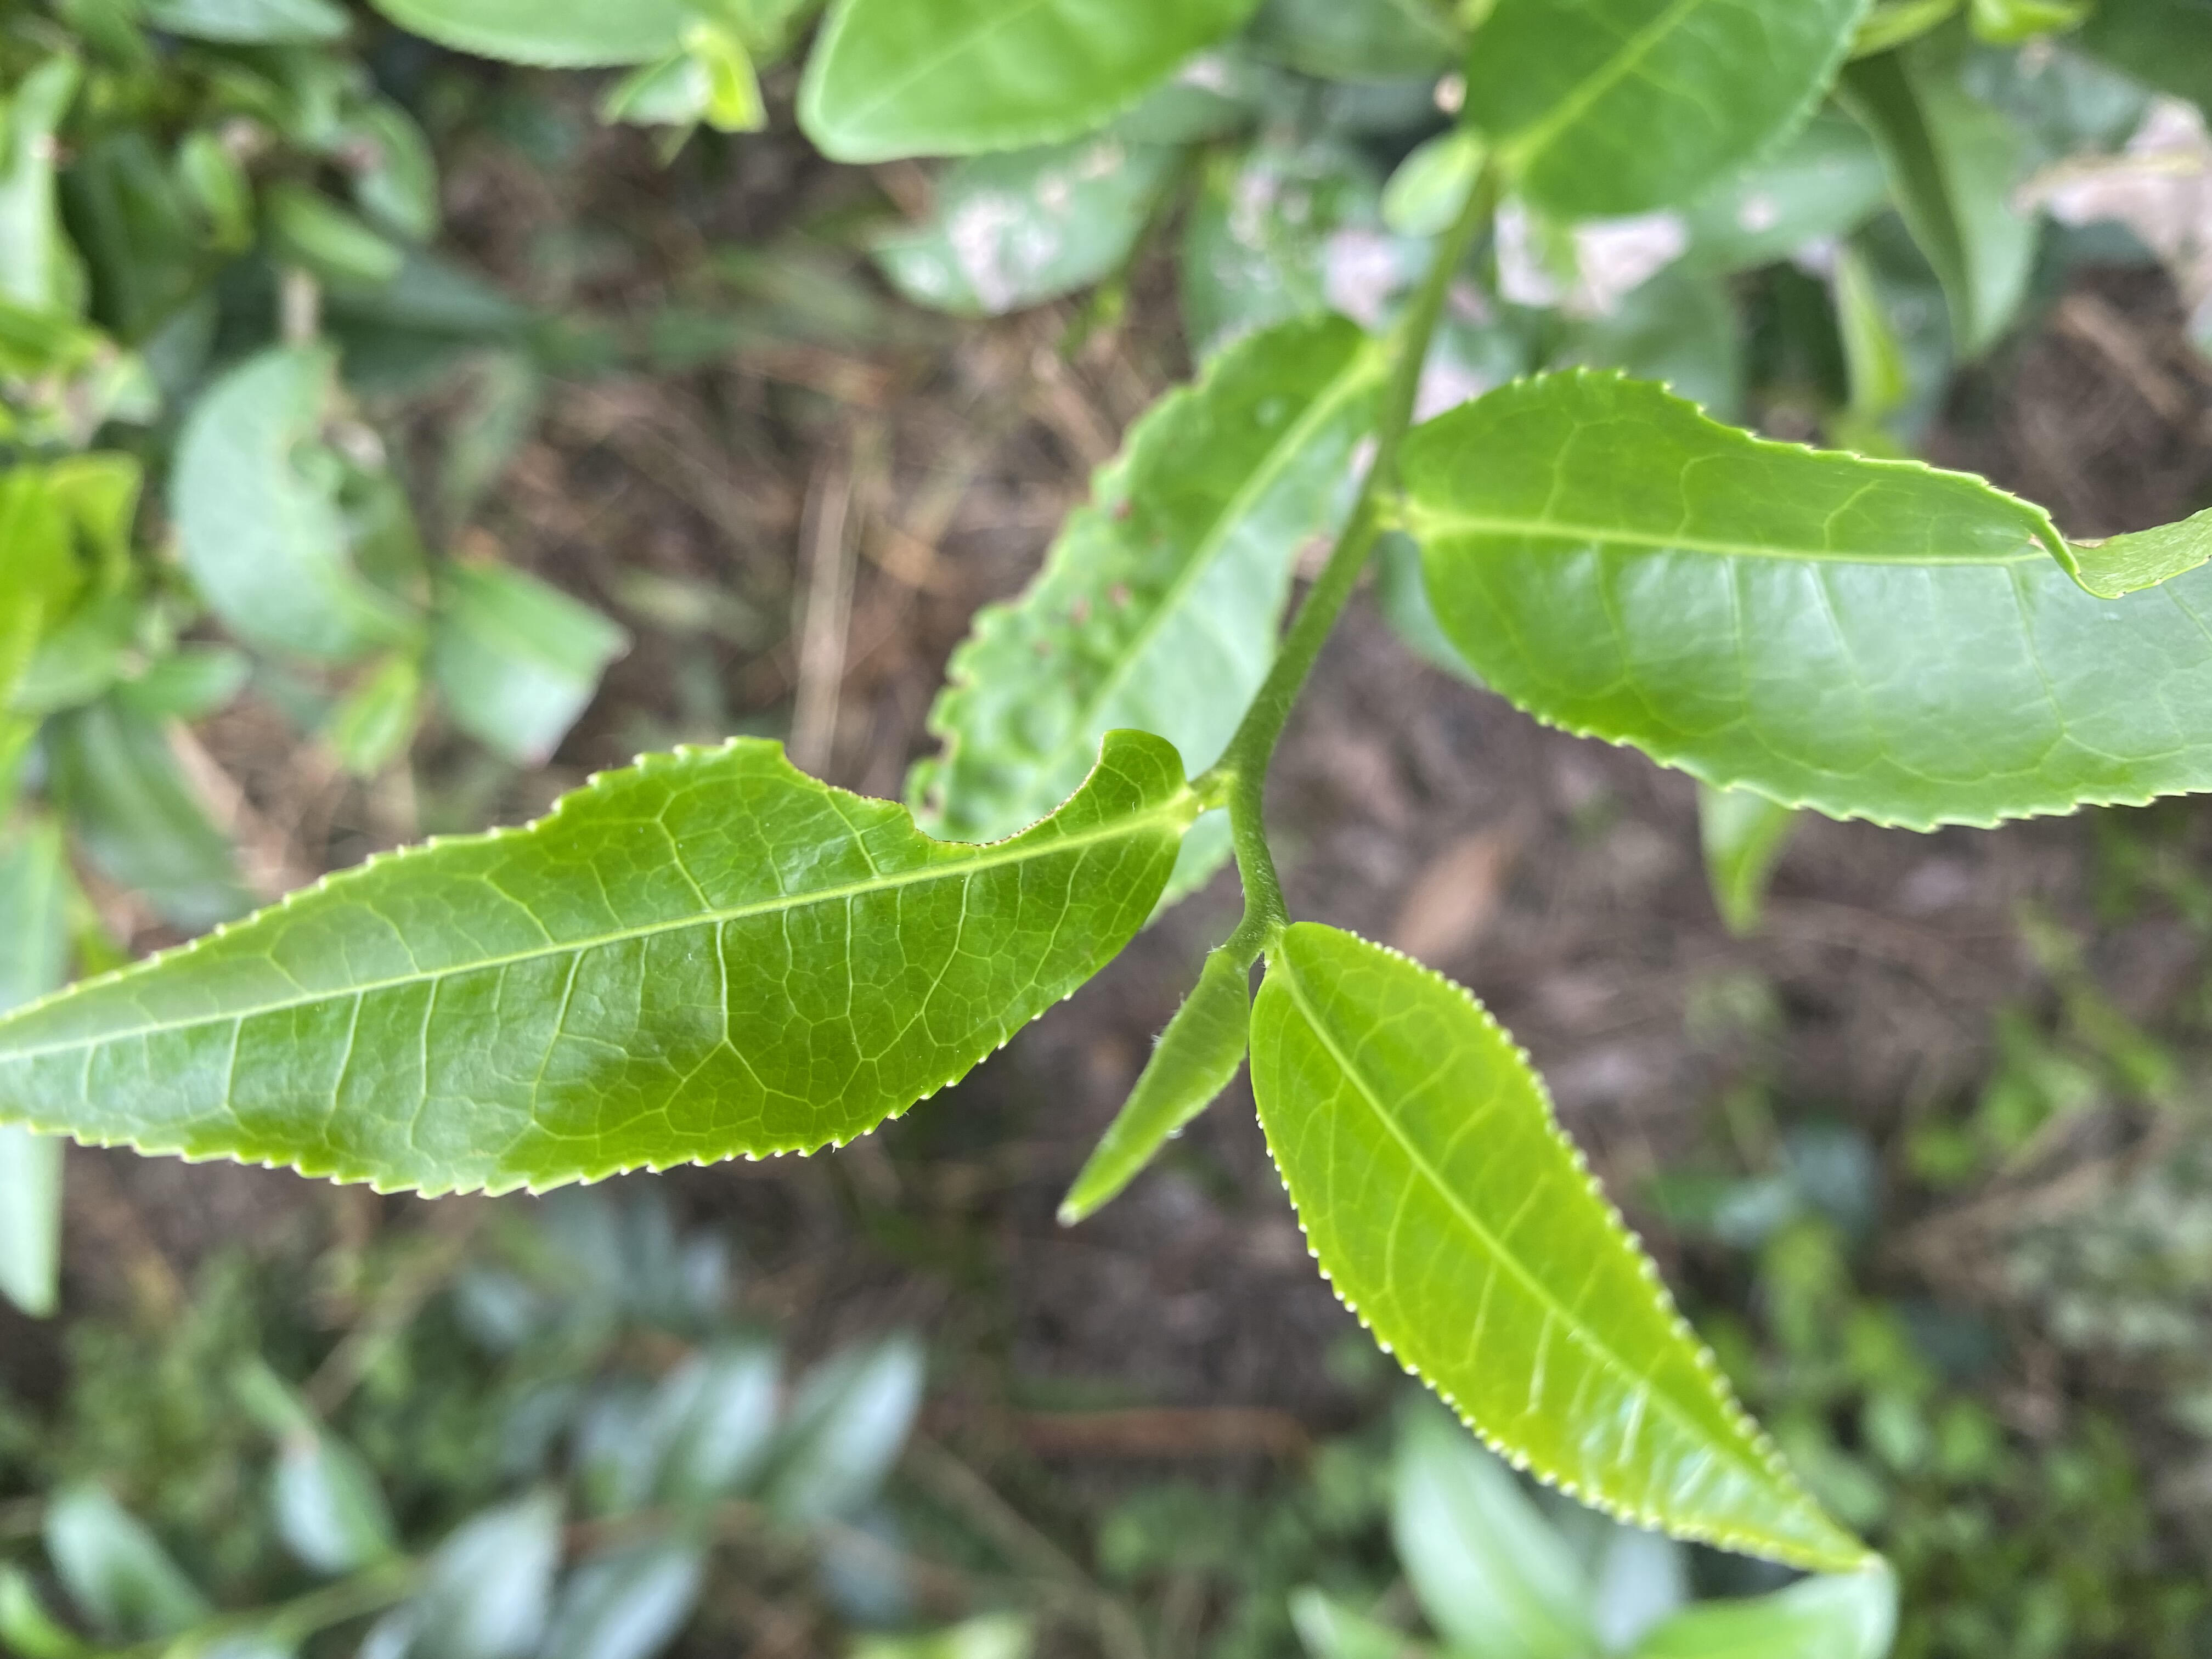chihuo_low: (3, 735, 1184, 1201)
healthy: (1247, 920, 1869, 1575)
